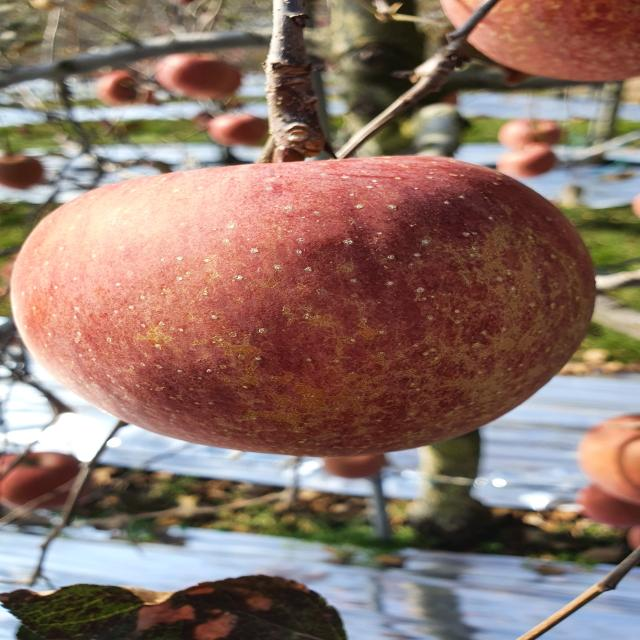fresh: (7, 151, 611, 464)
